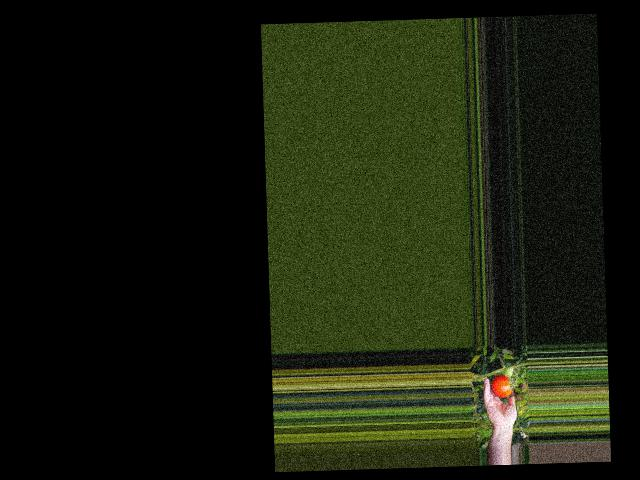tomato: (491, 374, 512, 398)
